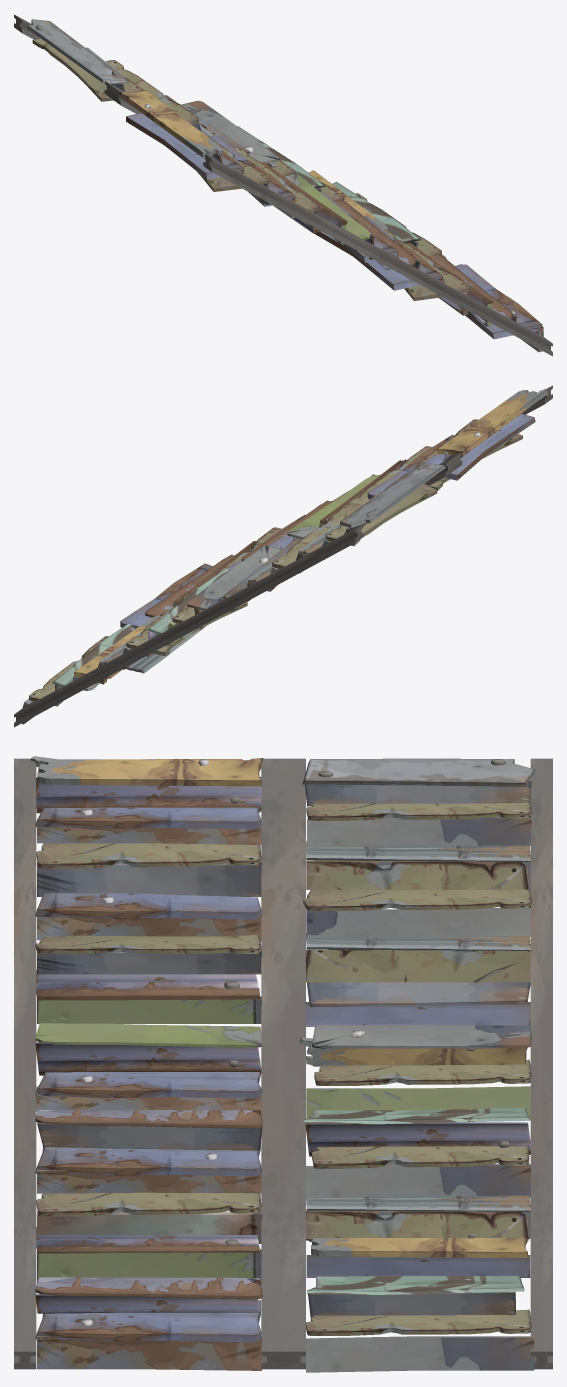
The model's file is metal-ramp.glb.
The picture shows the model from 3 angles, top to bottom: view 1: azimuth 30°, elevation 25°; view 2: azimuth 150°, elevation 25°; view 3: azimuth 270°, elevation 25°; orthographic projection. The views are drawn at different scales.
Parts seen in each view (by area): view 1: PBW_M1_StairW.dmx-static; view 2: PBW_M1_StairW.dmx-static; view 3: PBW_M1_StairW.dmx-static.
Boxes of the visible parts, box(x1,y1,x2,y2) form: PBW_M1_StairW.dmx-static: box(14, 14, 552, 356); PBW_M1_StairW.dmx-static: box(14, 385, 552, 727); PBW_M1_StairW.dmx-static: box(14, 756, 552, 1372).
Size of the model in its own units: 5.53 by 4.32 by 5.43.
1 material, 1 textured.
